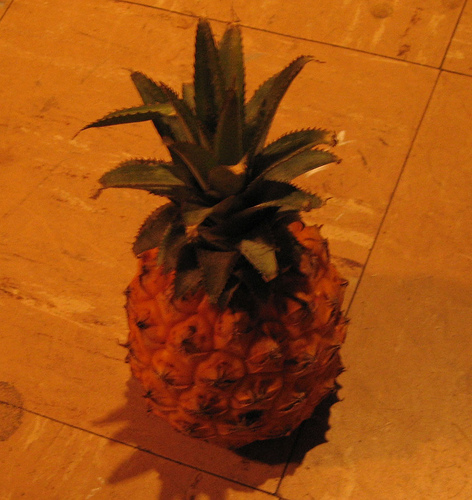pineapple: (67, 0, 353, 451)
